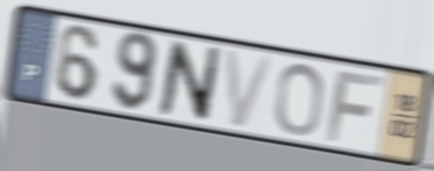6: (52, 23, 102, 106)
9: (109, 29, 159, 117)
F: (323, 69, 387, 145)
N: (155, 38, 224, 126)
O: (272, 60, 327, 139)
V: (222, 46, 277, 131)
